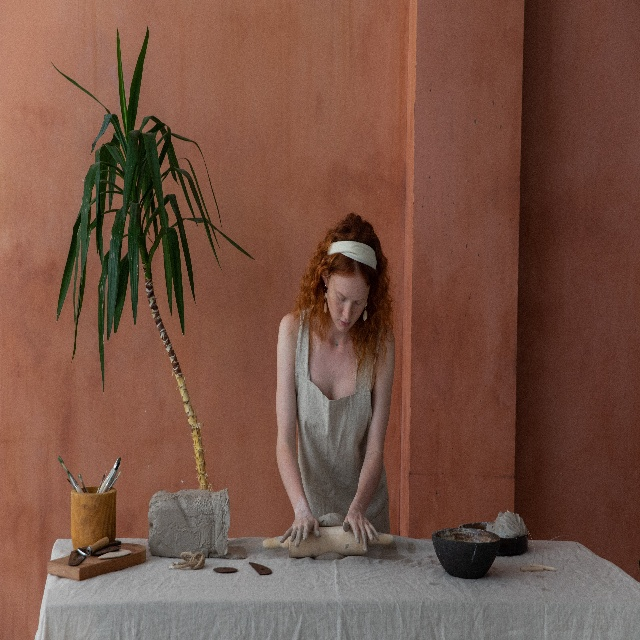Sin_guantes: (342, 507, 380, 553), (279, 510, 321, 548)
